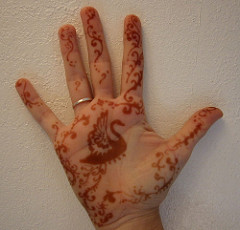palm: (71, 111, 162, 202)
